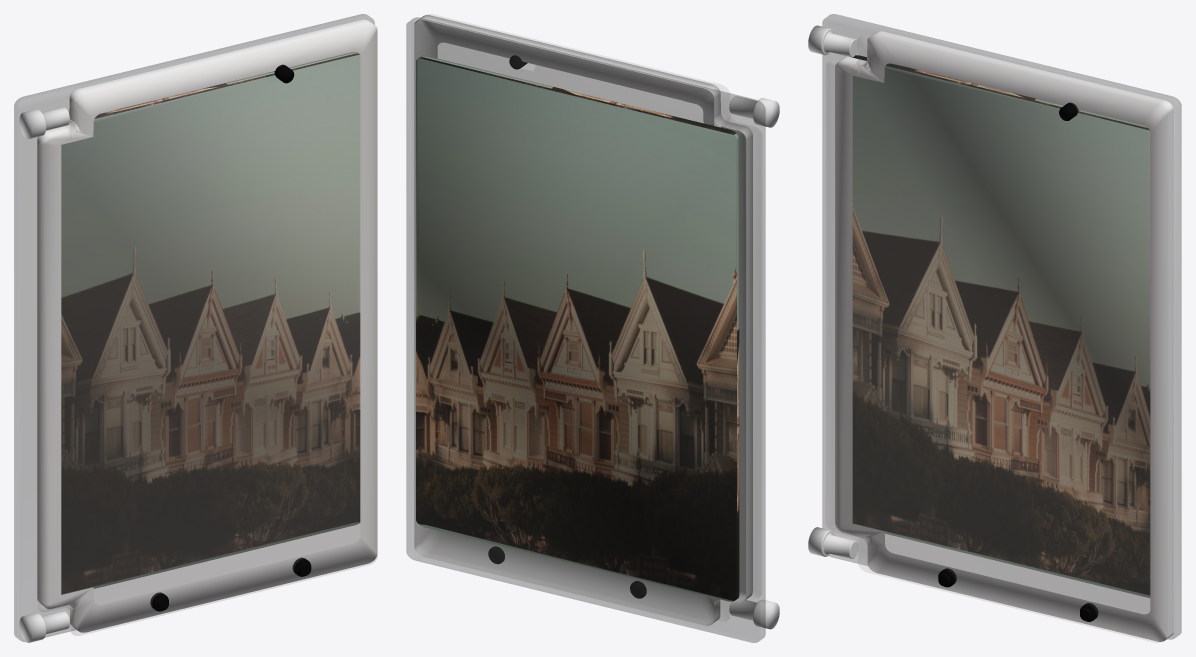
The model's file is a3vertlf8.glb.
3 views of the same model, side by side, from view 1: azimuth 30°, elevation 25°; view 2: azimuth 150°, elevation 25°; view 3: azimuth 330°, elevation 25° (orthographic).
Visible parts, largest first — view 1: a4vertoneinittwo; view 2: a4vertoneinittwo; view 3: a4vertoneinittwo.
Part boxes in pixels (x1,y1,x2,y2): a4vertoneinittwo: (14, 14, 377, 642); a4vertoneinittwo: (406, 14, 779, 642); a4vertoneinittwo: (808, 14, 1181, 642).
Bounding box in the file's own units: 0.169 × 0.2456 × 0.0155.
6 materials, 1 textured.
